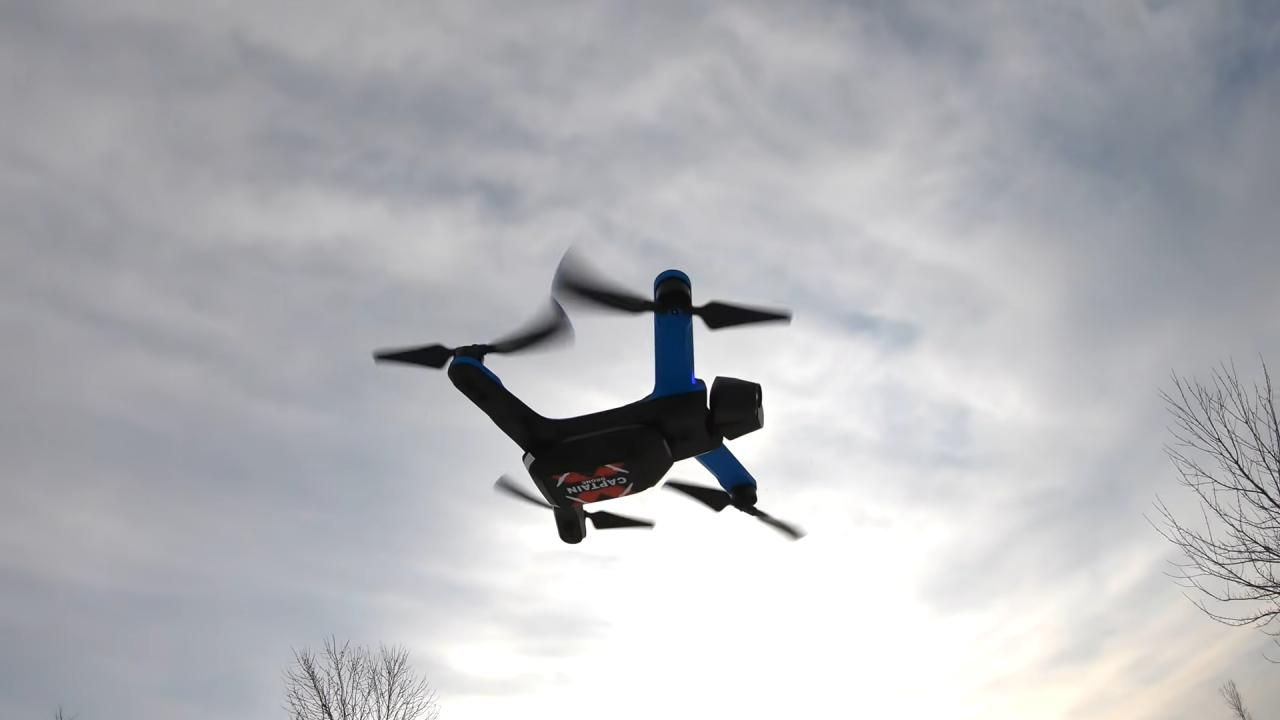Drone: (361, 221, 830, 553)
